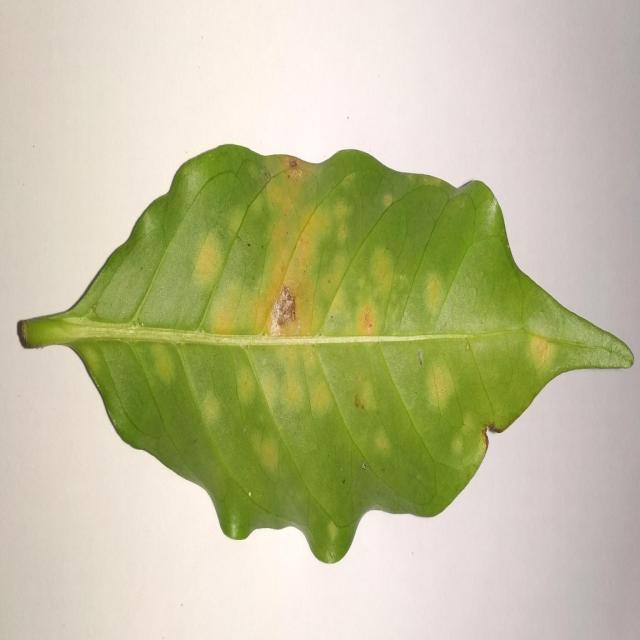Enfermedad-Roya: (15, 144, 636, 568)
